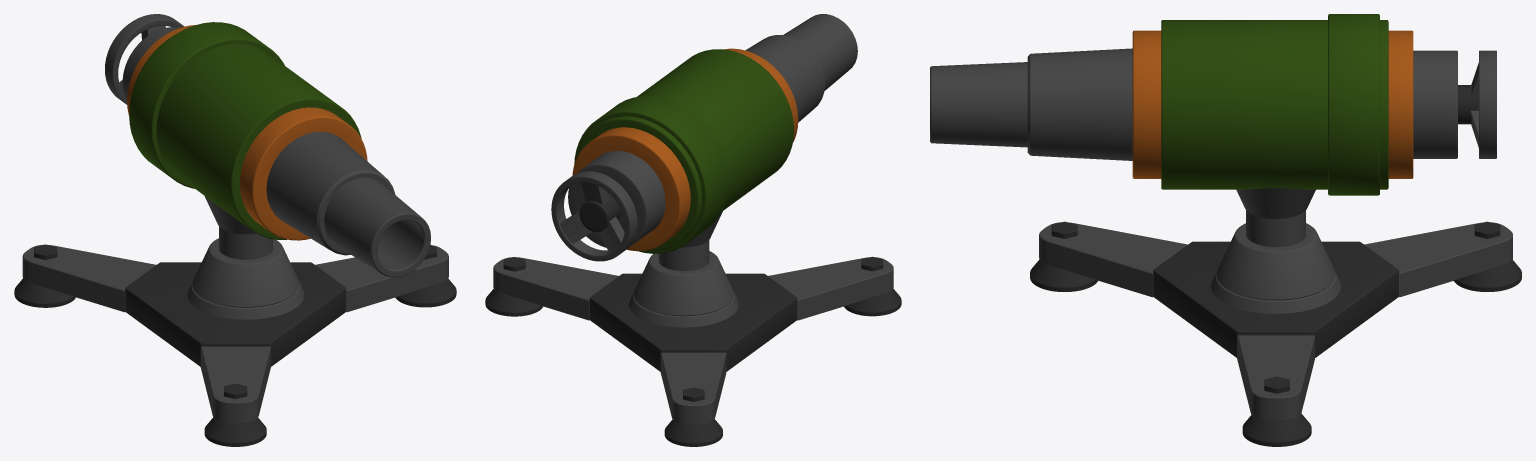
The model's file is canon 2.fbx.
3 views of the same model, side by side, from view 1: azimuth 30°, elevation 25°; view 2: azimuth 150°, elevation 25°; view 3: azimuth 270°, elevation 25° (orthographic). The views are drawn at different scales.
Parts seen in each view (by area): view 1: Cylinder077, Object019, Cylinder063, Cylinder059, Cylinder058, Cylinder067, Cylinder062, Cylinder079, Cylinder066, Cylinder071, Cylinder068, Cylinder074 (+3 smaller); view 2: Cylinder077, Object019, Cylinder063, Cylinder067, Cylinder062, Cylinder079, Cylinder065, Cylinder058, Cylinder059, Cylinder066, Object021, Cylinder074 (+4 smaller); view 3: Cylinder077, Object019, Cylinder063, Cylinder058, Cylinder079, Cylinder062, Cylinder067, Cylinder059, Cylinder065, Cylinder066, Cylinder070, Cylinder068 (+4 smaller).
Boxes of the visible parts, x1,y1,x2,y2 form: Cylinder077: (132, 36, 361, 239); Object019: (22, 244, 448, 424); Cylinder063: (125, 262, 346, 366); Cylinder059: (324, 177, 430, 277); Cylinder058: (266, 131, 395, 255); Cylinder067: (187, 238, 304, 319); Cylinder062: (127, 25, 367, 240); Cylinder079: (129, 22, 284, 188); Cylinder066: (105, 14, 184, 104); Cylinder071: (204, 417, 266, 446); Cylinder068: (219, 226, 272, 259); Cylinder074: (14, 278, 75, 307); Cylinder077: (576, 49, 793, 251); Object019: (493, 257, 893, 425); Cylinder063: (589, 273, 797, 371); Cylinder067: (629, 251, 738, 327); Cylinder062: (572, 48, 798, 251); Cylinder079: (574, 96, 727, 253); Cylinder065: (568, 150, 665, 247); Cylinder058: (745, 35, 824, 122); Cylinder059: (783, 14, 857, 90); Cylinder066: (551, 171, 637, 261); Object021: (560, 182, 624, 252); Cylinder074: (664, 419, 722, 446); Cylinder077: (1161, 20, 1388, 189); Object019: (1039, 222, 1512, 421); Cylinder063: (1153, 241, 1398, 357); Cylinder058: (1027, 48, 1132, 160); Cylinder079: (1328, 14, 1379, 195); Cylinder062: (1132, 30, 1413, 178); Cylinder067: (1211, 223, 1340, 313); Cylinder059: (930, 62, 1027, 147); Cylinder065: (1413, 50, 1457, 158); Cylinder066: (1479, 50, 1496, 158); Cylinder070: (1236, 188, 1315, 218); Cylinder068: (1246, 210, 1305, 247).
Size of the model in its own units: 231 by 183 by 314.
